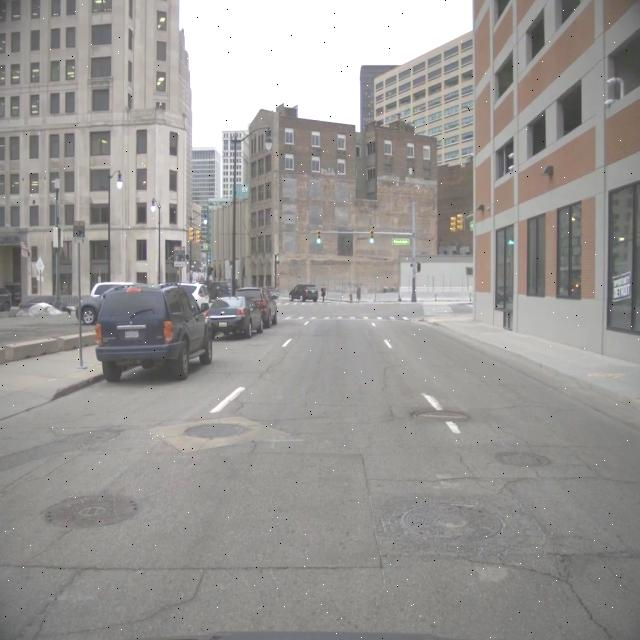humans: (321, 283, 327, 303), (356, 283, 362, 303)
